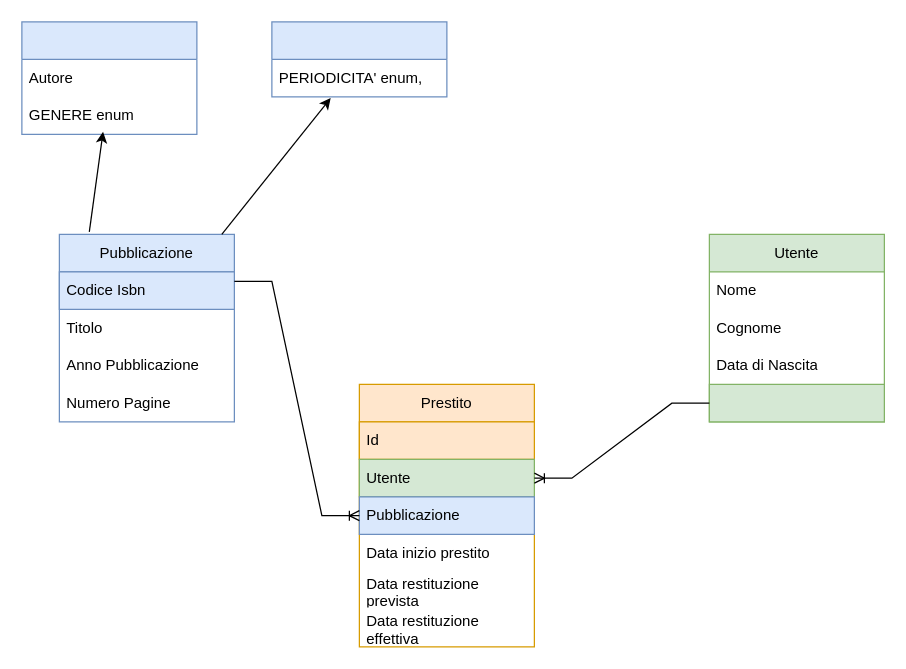
This 906x669 diagram has some shape labels left out. The shapes that lost their labels are listed below. From the top down, each one's box as (x1, y1, x2, y2) in pixels, then its label:
(21, 21, 197, 134): Libro
(271, 21, 447, 97): Rivista
(708, 383, 884, 422): Numero di Tessera
